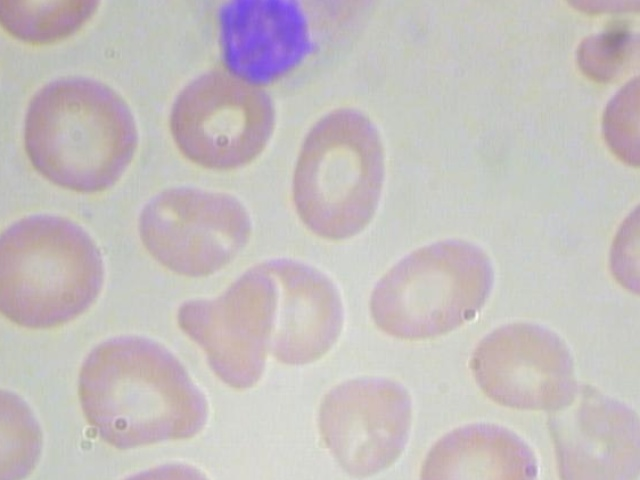RBC: (350, 228, 510, 348), (73, 328, 217, 451), (13, 69, 147, 197), (465, 295, 585, 421), (232, 245, 351, 370), (289, 103, 391, 248), (0, 210, 121, 332), (299, 368, 420, 480), (159, 67, 286, 172), (134, 177, 256, 282), (0, 0, 116, 57), (595, 175, 640, 302), (595, 58, 640, 184), (553, 0, 640, 20)
WBC: (145, 0, 406, 93)
